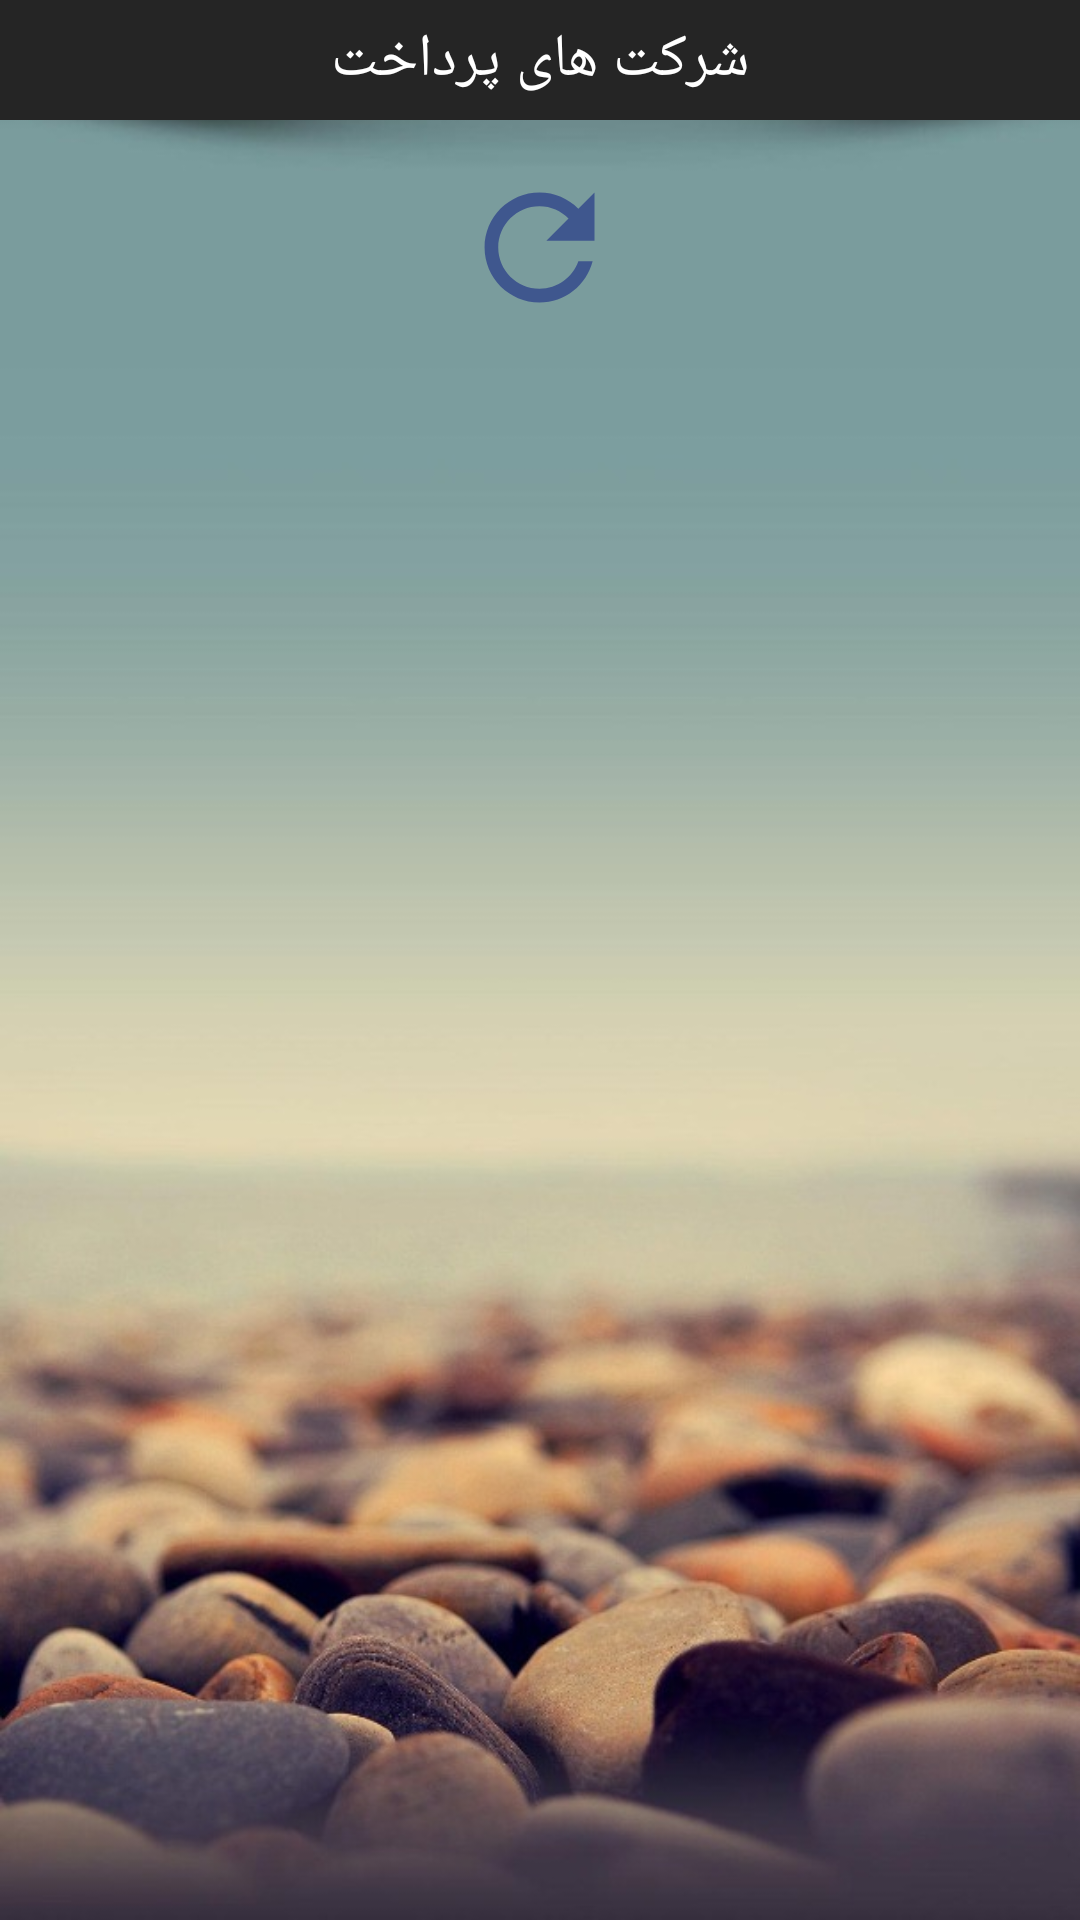

Screen size 1080px x 1920px. Icon name, then its center in pixels as point (x, y):
refresh: point (539, 247)
